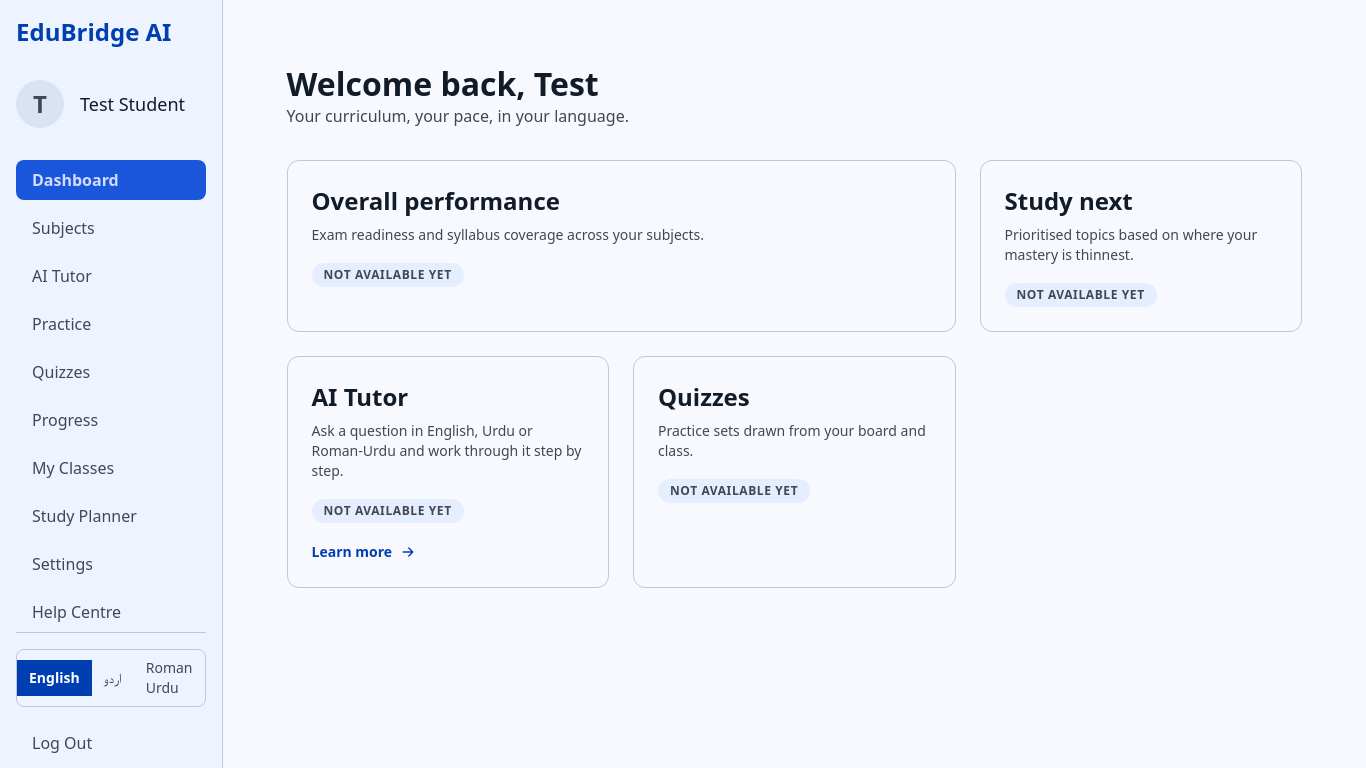
Test: AI Tutor Grade Guardrail and Navigation › Class 9 Student › dashboard AI Tutor card opens the Subject Selection Modal on click
Expected: the element "AI Tutor" is shown, [286,356,609,588]
Click the button "Learn more". click: (364, 552)
box: [312,542,416,562]
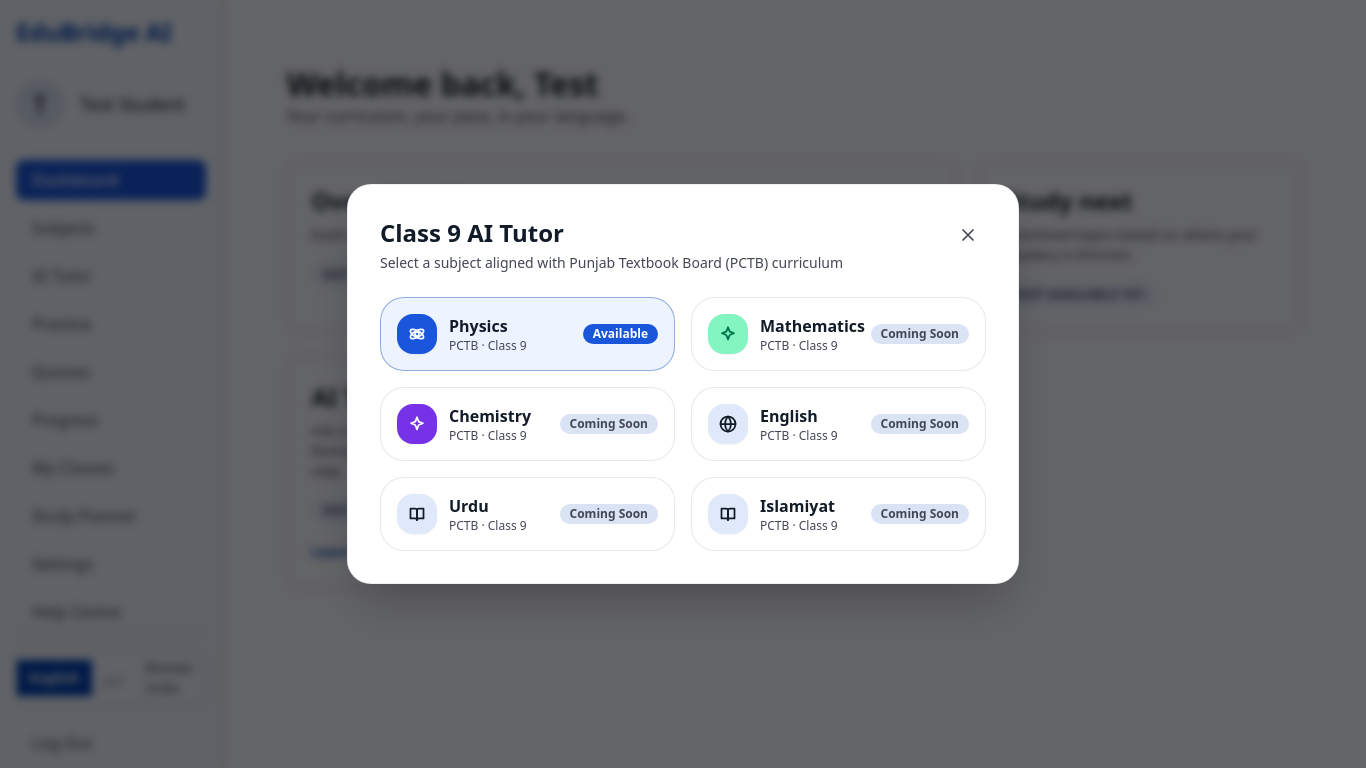
Result: the dialog is shown
Result: the heading "Class 9 AI Tutor" is shown at [380,216,564,249]
